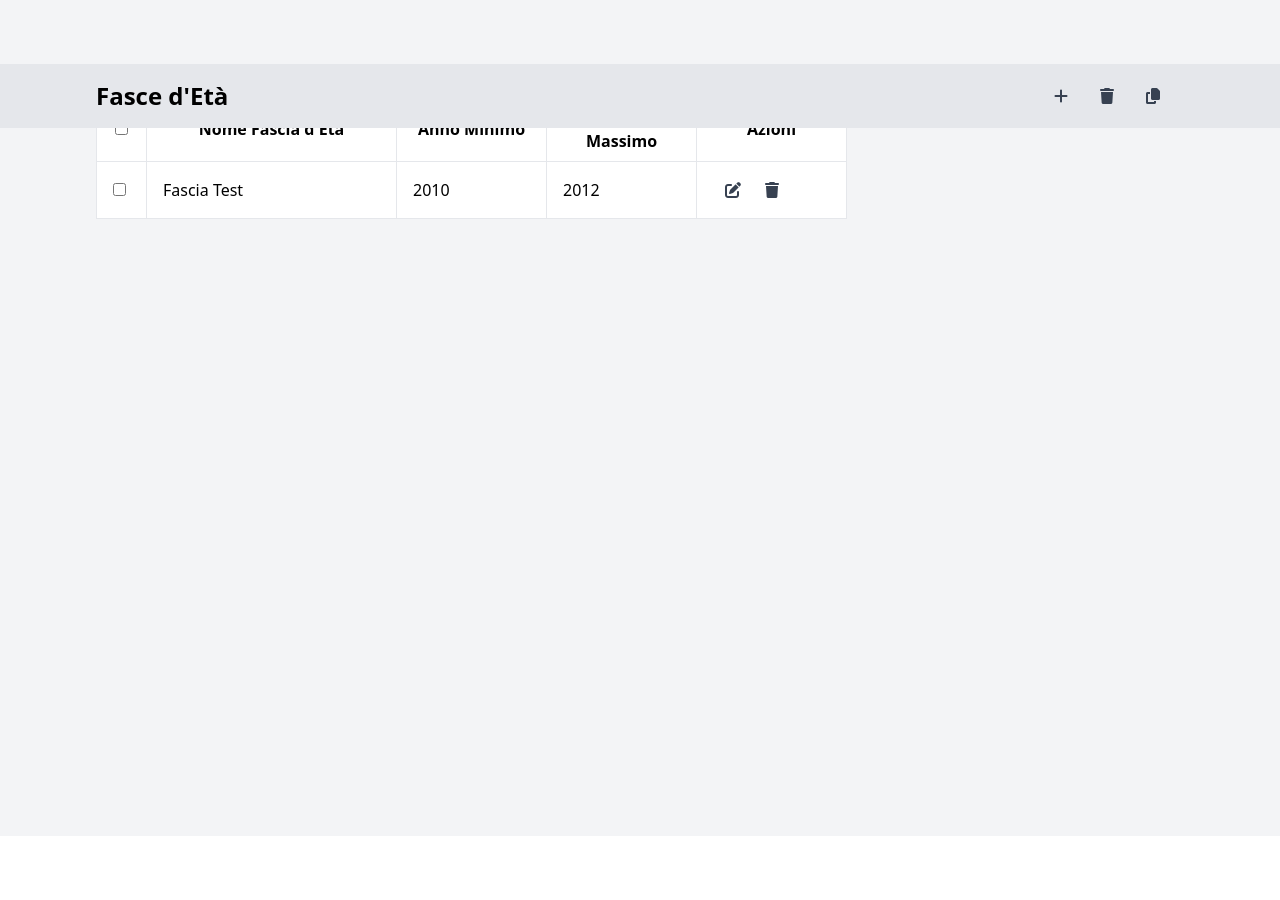
Test case: Pagina Fasce › Test lato client › mostra il form quando si clicca sul pulsante aggiungi
Click the button titled "Aggiungi Fascia" at (1061, 96), box [1046,84,1076,108]
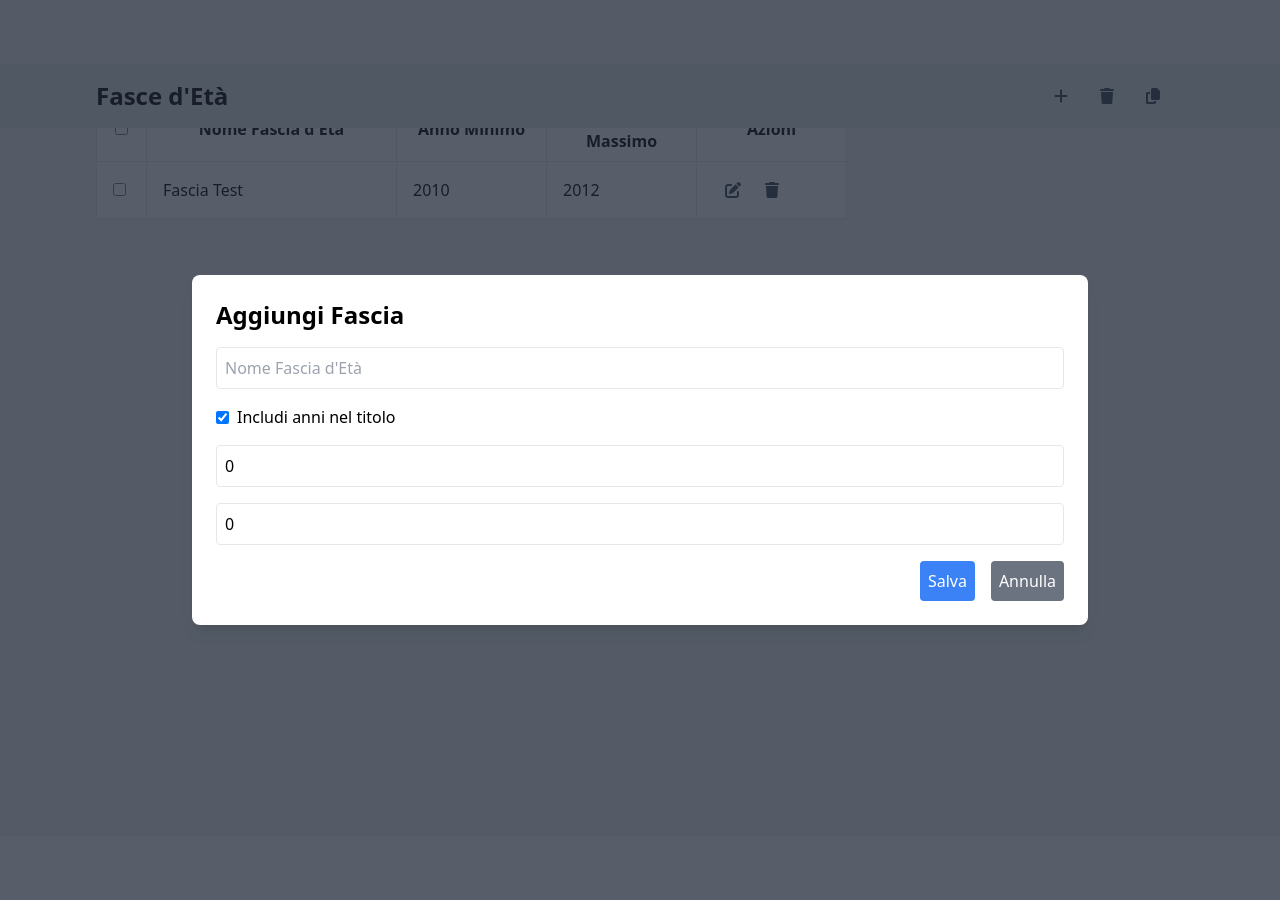
expect the form is shown: met, box [216,347,1064,601]
